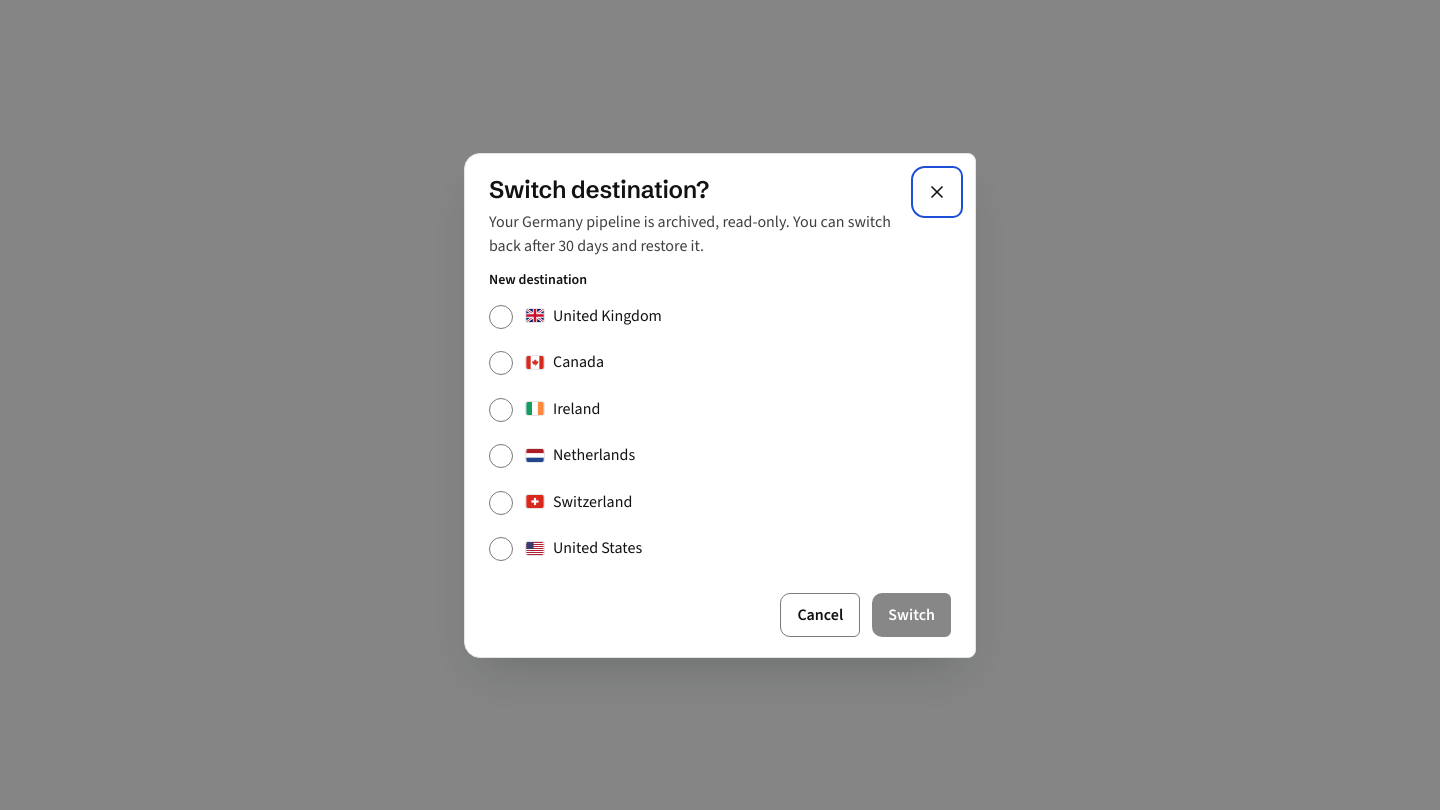
Test: switch destination dialog › switches only once a country is picked, and says where to
expect the button "Switch" is disabled: met, box [872,592,951,636]
Click the radio button labelled "Canada".
click(501, 363)  # box [489,351,513,375]
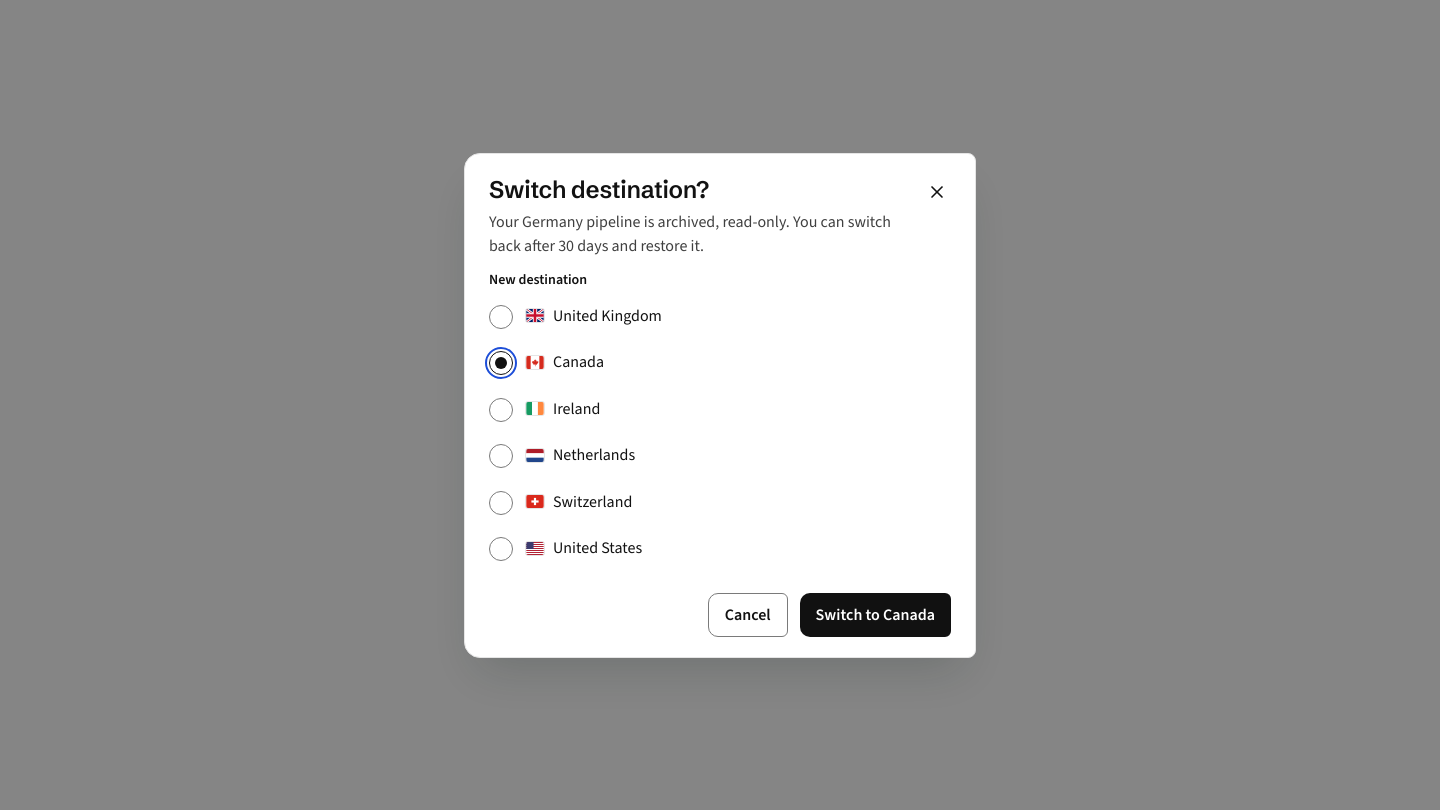
expect the button "Switch to Canada" is enabled: met, box [800,592,951,636]
